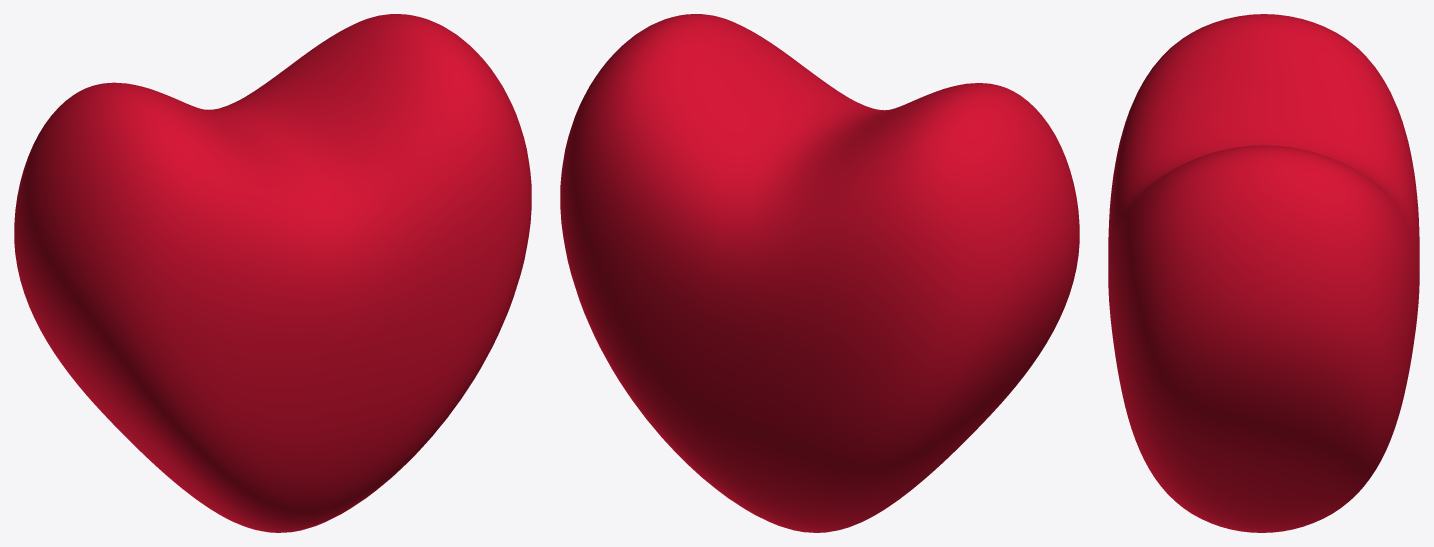
File: vida.fbx
3 renders of one model, left to right at view 1: azimuth 30°, elevation 25°; view 2: azimuth 150°, elevation 25°; view 3: azimuth 270°, elevation 25°, orthographic. The views are drawn at different scales.
Visible parts, largest first — view 1: Cube; view 2: Cube; view 3: Cube.
Part boxes in pixels (box(x1,y1,x2,y2)): Cube: box(14, 14, 531, 532); Cube: box(560, 14, 1079, 532); Cube: box(1108, 14, 1419, 532).
Bounding box in the file's own units: 318 × 302 × 194.
